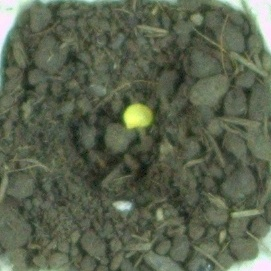chilli seed: (121, 102, 155, 131)
